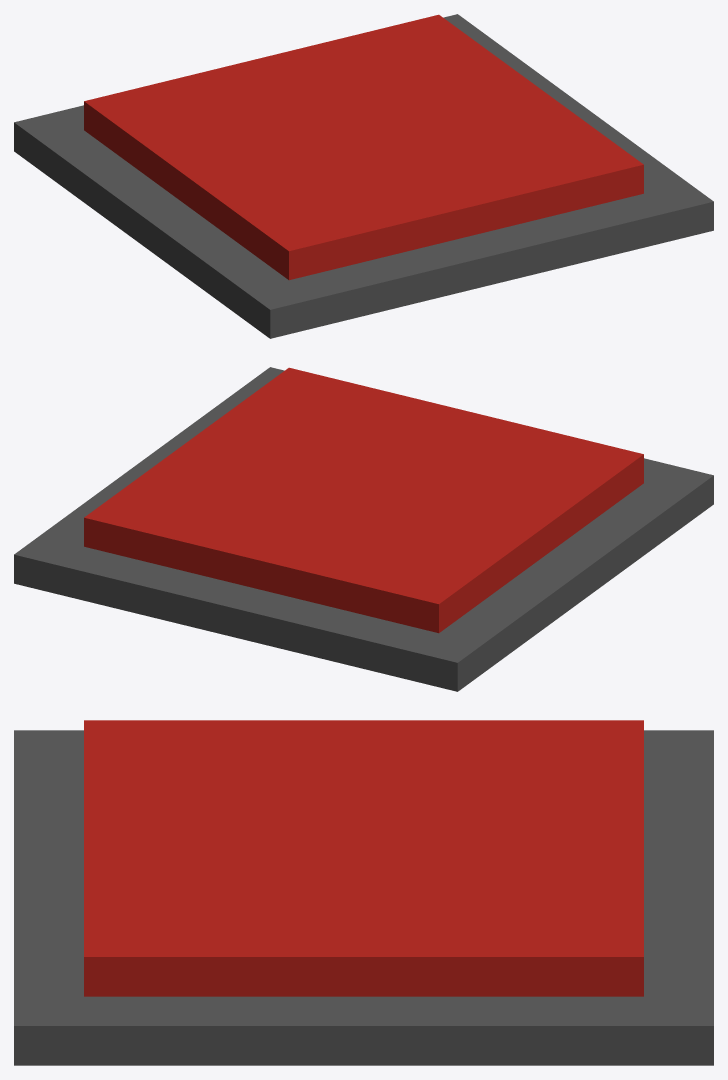
Rendered from pressure_plate_v0.glb.
3 renders of one model, top to bottom at view 1: azimuth 30°, elevation 25°; view 2: azimuth 150°, elevation 25°; view 3: azimuth 270°, elevation 25°, orthographic. The views are drawn at different scales.
Visible parts, largest first — view 1: pressure_plate_v0; view 2: pressure_plate_v0; view 3: pressure_plate_v0.
Part boxes in pixels (<box>): pressure_plate_v0: <box>14,14,713,338</box>; pressure_plate_v0: <box>14,367,713,691</box>; pressure_plate_v0: <box>14,720,713,1065</box>.
Bounding box in the file's own units: 0.4 × 0.05 × 0.4.
